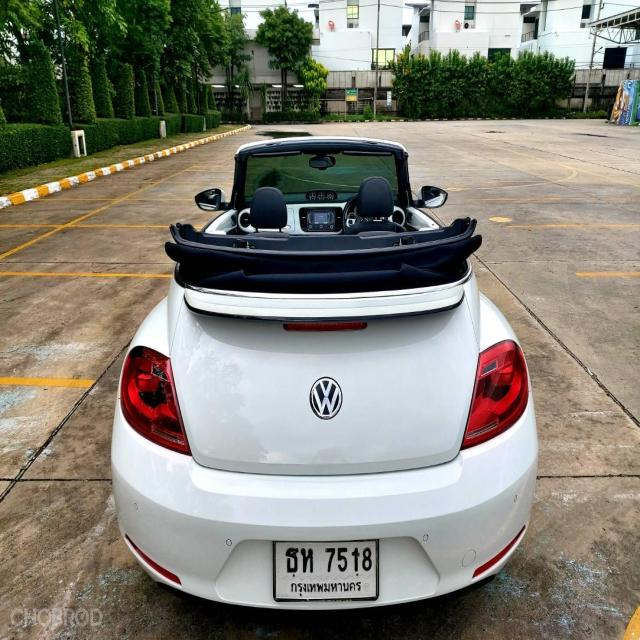license_plate: (270, 537, 383, 604)
